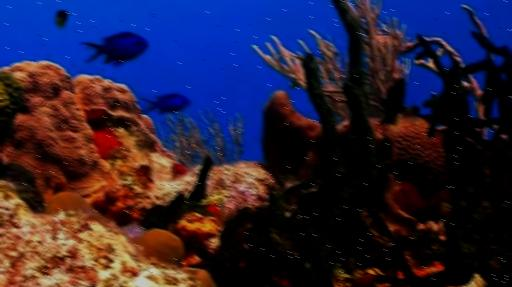Fish: (82, 32, 148, 65), (379, 77, 407, 125), (140, 93, 190, 113), (57, 10, 68, 27)
